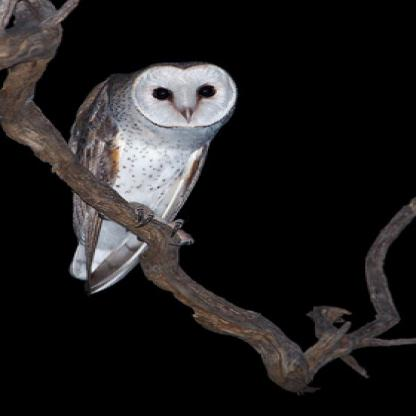owl: (48, 12, 287, 350)
